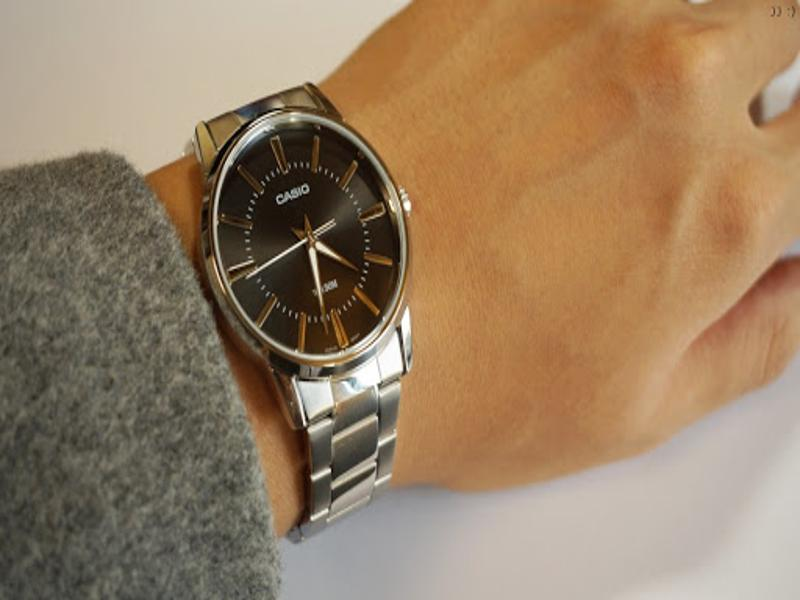watch: (185, 79, 418, 543)
